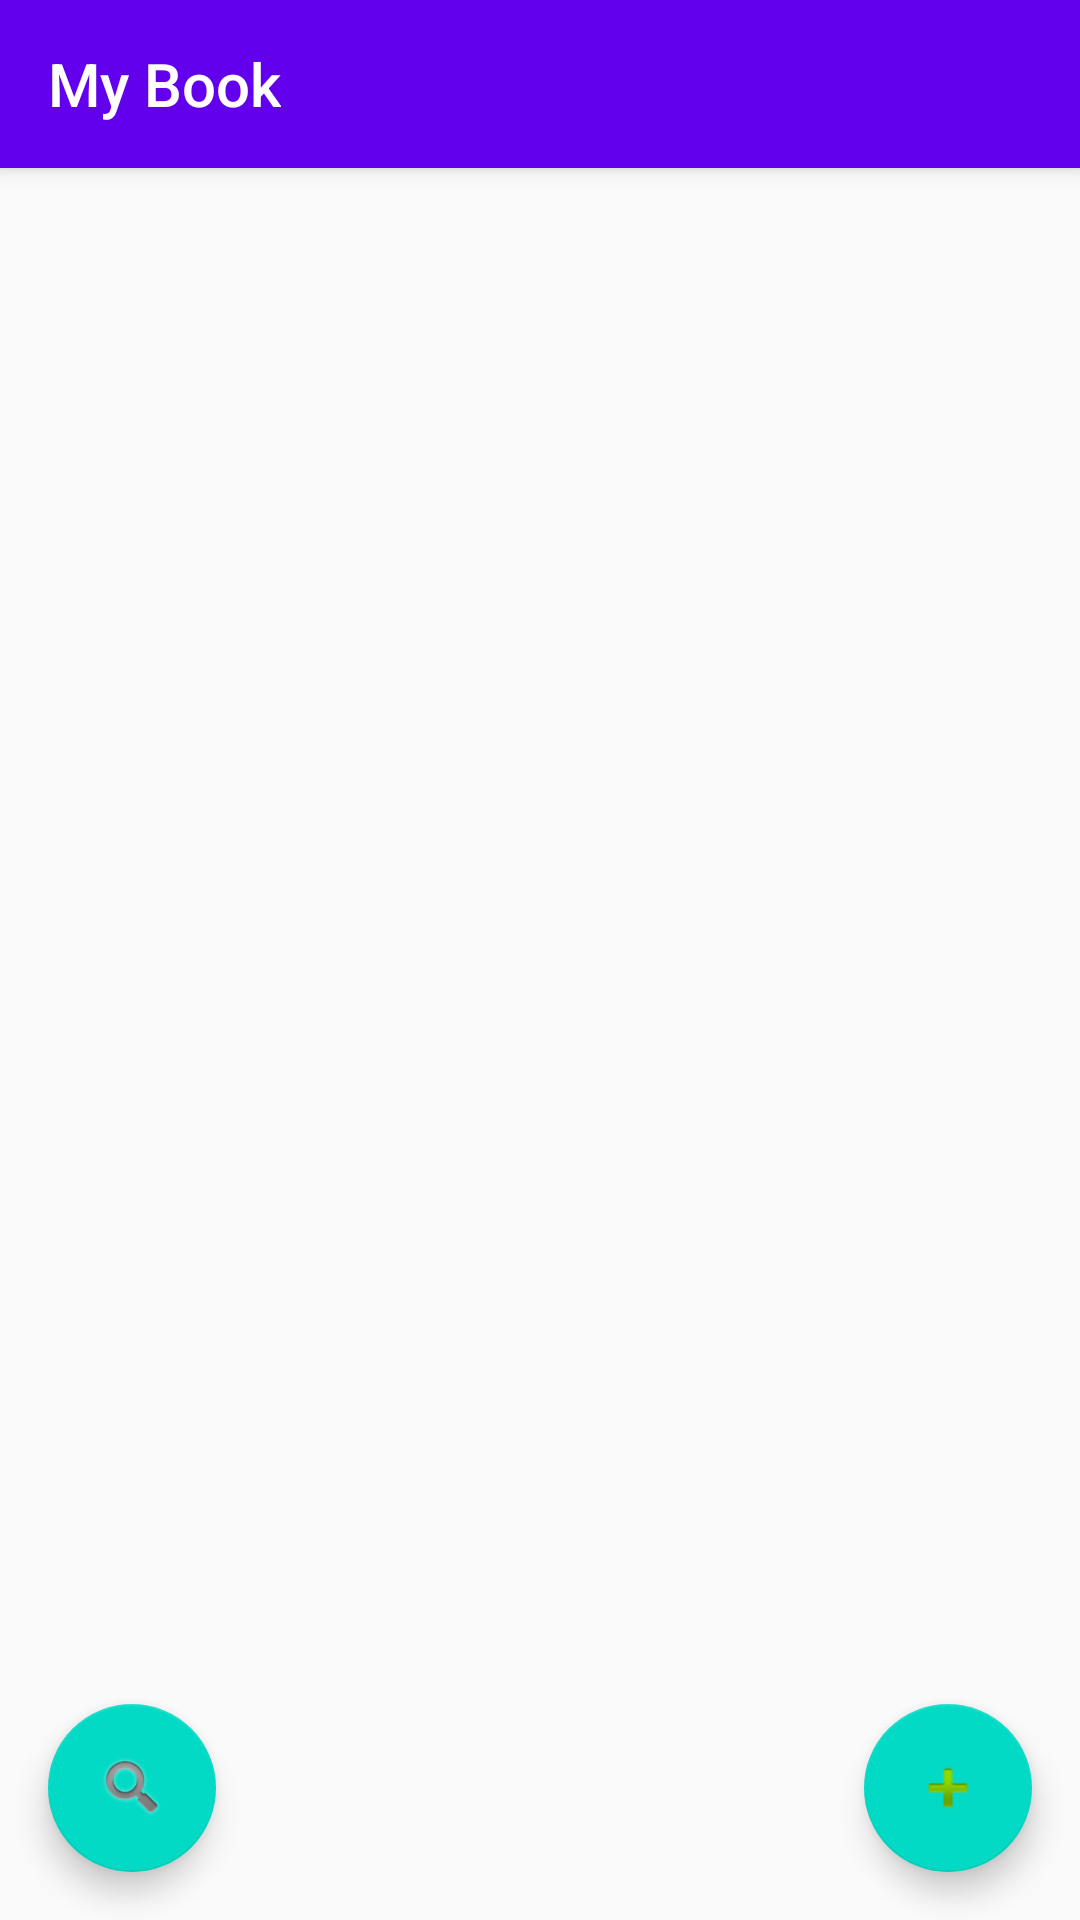

Where to tap for icons on this 1080*1920 app screen, as (x=x, y=y):
add: (x=948, y=1788)
search category: (x=132, y=1788)
